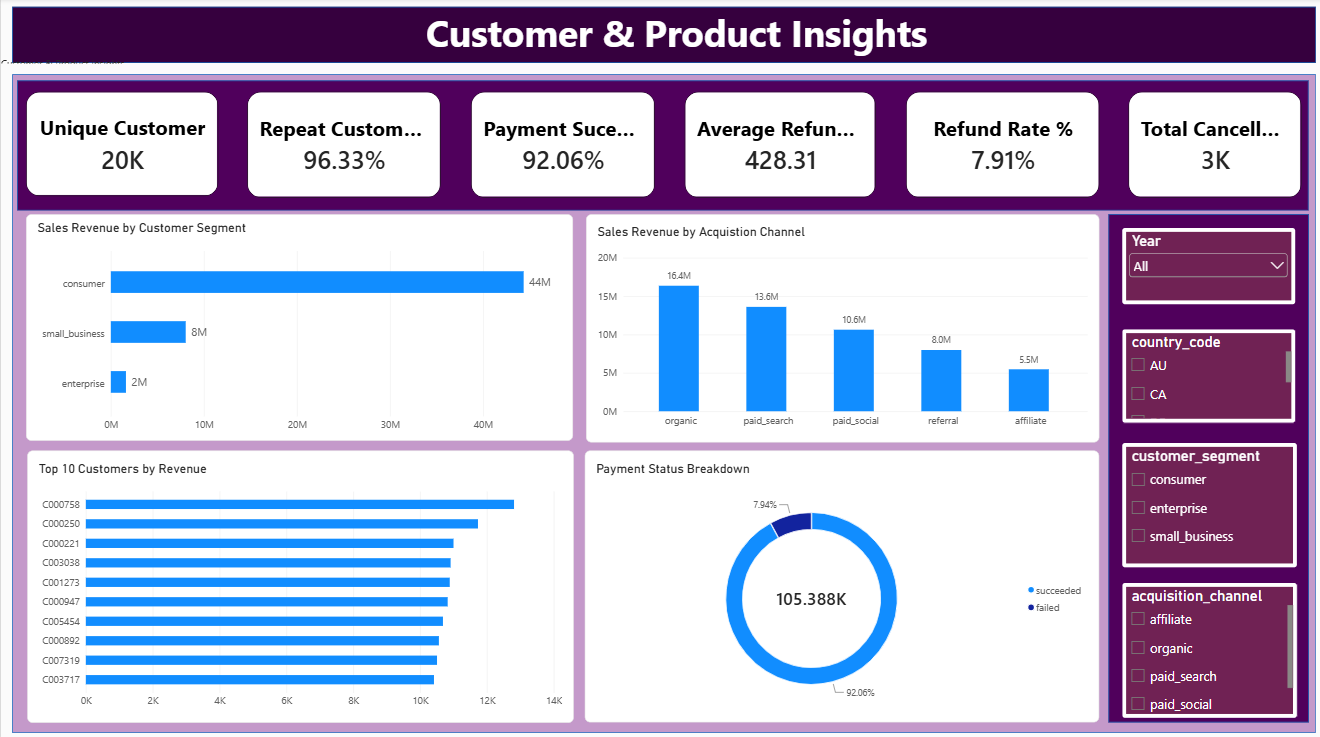

The page's visual inventory and layout, read from the dashboard file:
{"tool":"powerbi","page":{"name":"Page 2","canvas":[1920,1080],"ordinal":1},"visuals":[{"type":"shape","box":[16.3,12.7,1887.5,81.4],"z":0},{"type":"shape","box":[16.3,110.4,1887.5,953.7],"z":1000},{"type":"shape","box":[23.5,119.4,1869.4,188.2],"z":2000},{"type":"group","id":"g1","title":"Group 1","box":[36,136,1846.7,153.3],"z":3000},{"type":"clusteredBarChart","title":"Sales Revenue by Customer Segment","fields":{"Category":["customers.customer_segment"],"Y":["orders.Sales Revenue"]},"box":[36.7,313.3,791.7,328.3],"z":4000},{"type":"clusteredColumnChart","title":"Sales Revenue by Acquistion Channel","fields":{"Category":["customers.acquisition_channel"],"Y":["orders.Sales Revenue"]},"box":[846.7,313.3,743.3,330],"z":5000},{"type":"barChart","title":"Top 10 Customers by Revenue","fields":{"Category":["customers.customer_id"],"Y":["orders.Sales Revenue"]},"box":[37.1,654.3,791.4,394.3],"z":6000},{"type":"donutChart","title":"Payment Status Breakdown","fields":{"Category":["payments.payment_status"],"Y":["CountNonNull(payments.payment_id)"]},"box":[845,655,745,393.3],"z":7000},{"type":"shape","box":[1602.9,312.9,290,735.7],"z":7001},{"type":"textbox","box":[0,12.5,1920,82.5],"z":7002},{"type":"slicer","fields":{"Values":["orders.ordered_at.Variation.Date Hierarchy.Year"]},"box":[1622.5,332.5,250,110],"z":7003},{"type":"slicer","fields":{"Values":["customers.country_code"]},"box":[1622.5,478.8,250,135],"z":7004},{"type":"slicer","fields":{"Values":["customers.customer_segment"]},"box":[1622.5,645,252.5,180],"z":7005},{"type":"slicer","fields":{"Values":["customers.acquisition_channel"]},"box":[1622.5,847.5,252.5,195],"z":7006},{"type":"cardVisual","fields":{"Data":["orders.Unique Customer"]},"box":[36,136,278,151],"z":10000,"group":"g1"},{"type":"cardVisual","fields":{"Data":["orders.Repeat Customer Rate"]},"box":[357.1,136,280,153.3],"z":10500,"group":"g1"},{"type":"cardVisual","fields":{"Data":["payments.Payment Sucess %"]},"box":[680.1,136,266.7,153.3],"z":11500,"group":"g1"},{"type":"cardVisual","fields":{"Data":["refunds.Average Refund Value"]},"box":[989.9,136,276.7,153.3],"z":12000,"group":"g1"},{"type":"cardVisual","fields":{"Data":["refunds.Refund Rate %"]},"box":[1309.6,136,280,153.3],"z":12500,"group":"g1"},{"type":"cardVisual","fields":{"Data":["orders.Total Cancelled Orders"]},"box":[1632.7,136,250,153.3],"z":13000,"group":"g1"}]}

Visuals, with their boxes in screenshot pixels (x1, y1, x2, y2), scaled from the page's 1920x1080 canvas onto the 1320x737 screenshot:
shape: box(11, 9, 1309, 64)
shape: box(11, 75, 1309, 726)
shape: box(16, 81, 1301, 210)
"Group 1" group: box(25, 93, 1294, 197)
"Sales Revenue by Customer Segment" clusteredBarChart: box(25, 214, 570, 438)
"Sales Revenue by Acquistion Channel" clusteredColumnChart: box(582, 214, 1093, 439)
"Top 10 Customers by Revenue" barChart: box(26, 446, 570, 716)
"Payment Status Breakdown" donutChart: box(581, 447, 1093, 715)
shape: box(1102, 214, 1301, 716)
textbox: box(0, 9, 1319, 65)
slicer - orders.ordered_at.Variation.Date Hierarchy.Year: box(1115, 227, 1287, 302)
slicer - customers.country_code: box(1115, 327, 1287, 419)
slicer - customers.customer_segment: box(1115, 440, 1289, 563)
slicer - customers.acquisition_channel: box(1115, 578, 1289, 711)
cardVisual - orders.Unique Customer: box(25, 93, 216, 196)
cardVisual - orders.Repeat Customer Rate: box(246, 93, 438, 197)
cardVisual - payments.Payment Sucess %: box(468, 93, 651, 197)
cardVisual - refunds.Average Refund Value: box(681, 93, 871, 197)
cardVisual - refunds.Refund Rate %: box(900, 93, 1093, 197)
cardVisual - orders.Total Cancelled Orders: box(1122, 93, 1294, 197)
